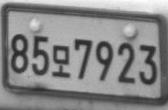2: (116, 41, 135, 83)
3: (138, 44, 158, 85)
5: (31, 35, 50, 76)
7: (73, 38, 93, 80)
8: (9, 33, 29, 74)
9: (94, 40, 114, 81)
모: (51, 44, 70, 78)
